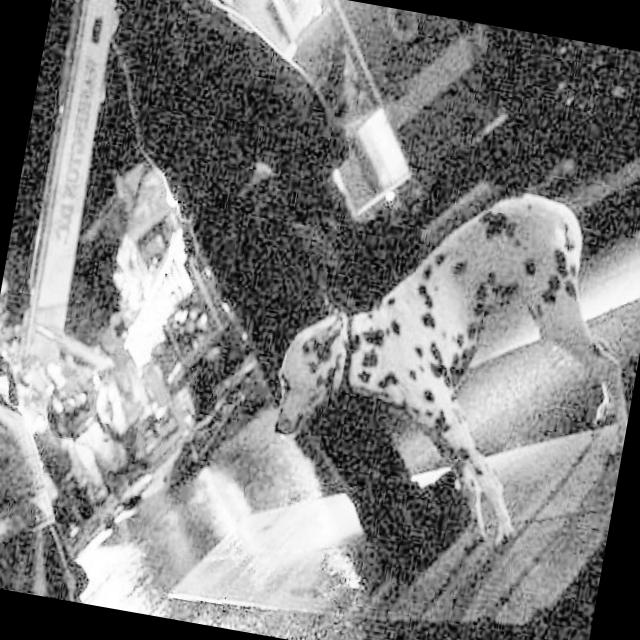Dog: (218, 126, 640, 619)
